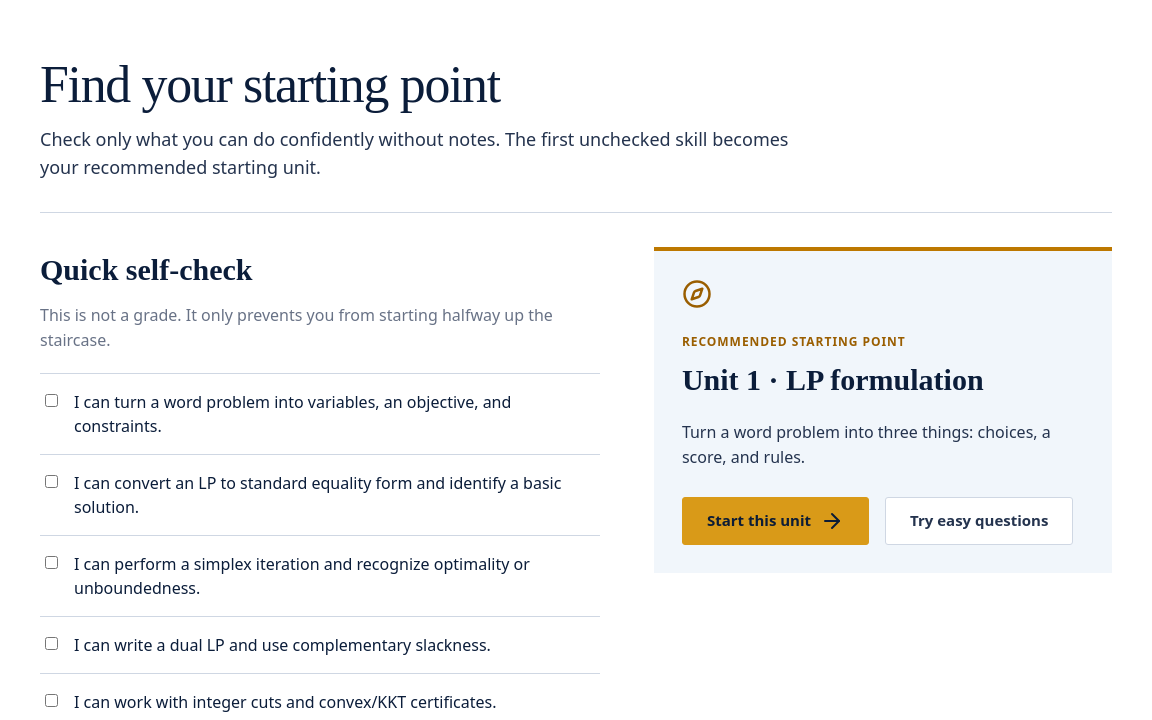
Test: CO 250 Field Guide › recommends the first missing prerequisite in the start diagnostic
Expected: the heading "Unit 1 · LP formulation" is shown, x1=682 y1=363 x2=984 y2=396
Click the checkbox labelled "I can turn a word problem into variables, an objective, and constraints.". click: (52, 400)
box: x1=44 y1=394 x2=59 y2=407
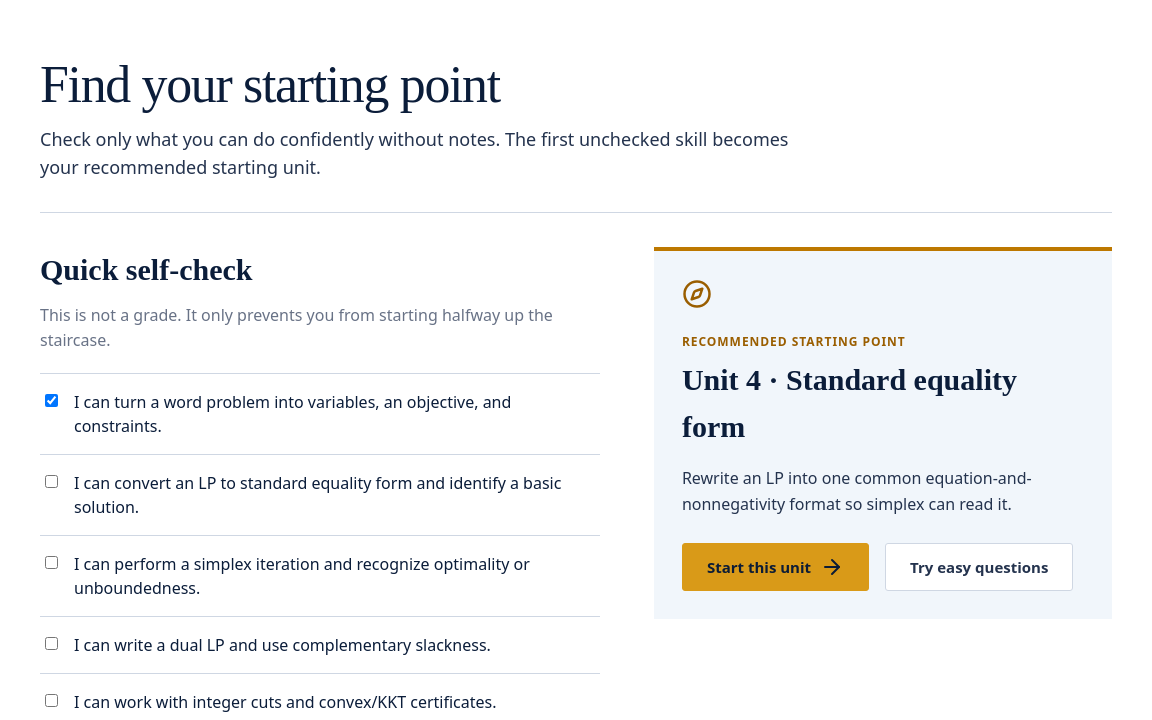
Result: the heading "Unit 4 · Standard equality form" is shown at x1=682 y1=363 x2=1017 y2=443
